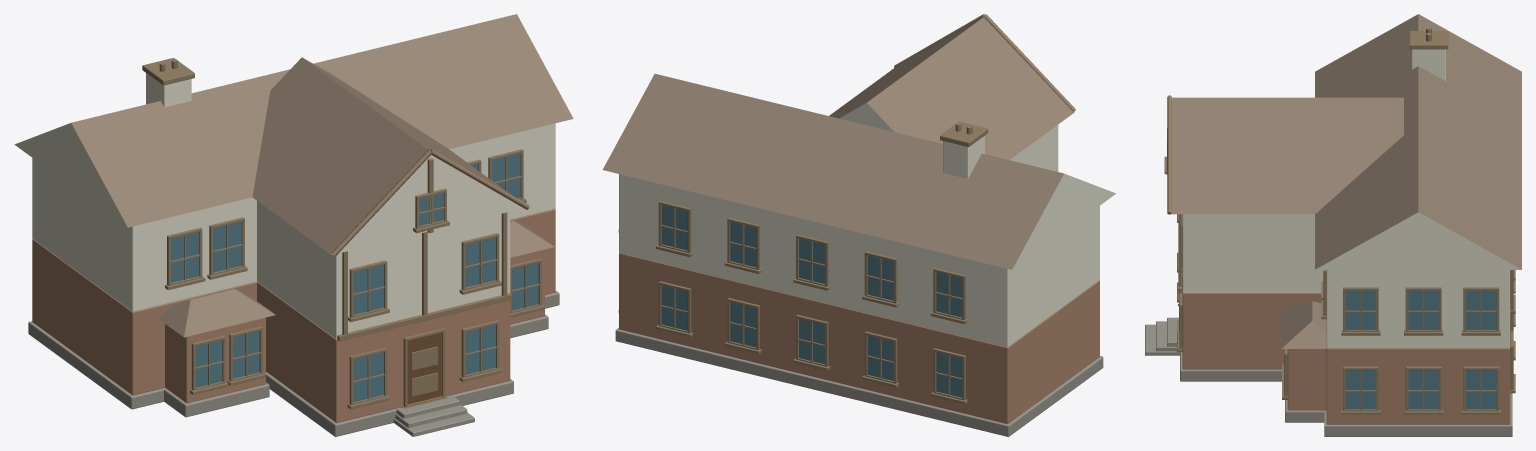
The model's file is large_arts_crafts.glb.
3 renders of one model, left to right at view 1: azimuth 30°, elevation 25°; view 2: azimuth 150°, elevation 25°; view 3: azimuth 270°, elevation 25°, orthographic. The views are drawn at different scales.
Visible parts, largest first — view 1: Broad hall intersecting roof solid gabled roof, Prominent forward gable solid gabled roof, Broad rear hall closed pale upper story, Forward T-plan cross wing closed pale upper story, Forward T-plan cross wing closed exterior walls, Broad rear hall closed exterior walls, Projecting ground bay closed exterior walls, Broad bay roof closed hipped roof, Forward T-plan cross wing closed foundation, Broad rear hall closed foundation, Projecting ground bay closed foundation, Arts and Crafts oak entry glazing (+23 smaller); view 2: Broad hall intersecting roof solid gabled roof, Broad rear hall closed pale upper story, Broad rear hall closed exterior walls, Prominent forward gable solid gabled roof, Broad rear hall closed foundation, Forward T-plan cross wing closed pale upper story, Broad brick chimney brick shaft, Rear hall casement glazing.006, Rear hall casement glazing.001, Rear hall casement glazing.004, Rear hall casement glazing, Rear hall casement glazing.003 (+7 smaller); view 3: Broad hall intersecting roof solid gabled roof, Prominent forward gable solid gabled roof, Forward T-plan cross wing closed pale upper story, Broad rear hall closed pale upper story, Broad rear hall closed exterior walls, Forward T-plan cross wing closed exterior walls, Broad rear hall closed foundation, Projecting ground bay closed exterior walls.001, Broad bay roof closed hipped roof.001, Forward T-plan cross wing closed foundation, Hall right-side casement glazing.003, Hall right-side casement glazing (+10 smaller).
Part boxes in pixels (x1,y1,x2,y2): Broad hall intersecting roof solid gabled roof: (14,14,573,227); Prominent forward gable solid gabled roof: (252,57,522,254); Broad rear hall closed pale upper story: (32,123,555,311); Forward T-plan cross wing closed pale upper story: (257,201,510,339); Forward T-plan cross wing closed exterior walls: (257,282,510,422); Broad rear hall closed exterior walls: (32,209,555,395); Projecting ground bay closed exterior walls: (165,317,265,403); Broad bay roof closed hipped roof: (159,289,275,337); Forward T-plan cross wing closed foundation: (266,372,513,436); Broad rear hall closed foundation: (28,291,559,409); Projecting ground bay closed foundation: (164,382,269,417); Arts and Crafts oak entry glazing: (407,332,442,404); Broad hall intersecting roof solid gabled roof: (602,73,1115,269); Broad rear hall closed pale upper story: (619,174,1099,347); Broad rear hall closed exterior walls: (619,253,1099,423); Prominent forward gable solid gabled roof: (829,17,1074,159); Broad rear hall closed foundation: (615,328,1103,436); Forward T-plan cross wing closed pale upper story: (1010,125,1058,171); Broad brick chimney brick shaft: (943,135,984,178); Rear hall casement glazing.006: (867,255,893,300); Rear hall casement glazing.001: (867,335,893,380); Rear hall casement glazing.004: (661,285,687,330); Rear hall casement glazing: (936,352,962,397); Rear hall casement glazing.003: (730,302,756,347); Broad hall intersecting roof solid gabled roof: (1315,14,1521,269); Prominent forward gable solid gabled roof: (1171,97,1403,214); Forward T-plan cross wing closed pale upper story: (1182,214,1323,293); Broad rear hall closed pale upper story: (1326,270,1510,348); Broad rear hall closed exterior walls: (1326,348,1510,424); Forward T-plan cross wing closed exterior walls: (1182,293,1321,369); Broad rear hall closed foundation: (1324,393,1512,436); Projecting ground bay closed exterior walls.001: (1287,349,1326,410); Broad bay roof closed hipped roof.001: (1281,301,1326,348); Forward T-plan cross wing closed foundation: (1180,352,1281,381); Hall right-side casement glazing.003: (1345,290,1376,329); Hall right-side casement glazing: (1345,370,1376,409).
Size of the model in its own units: 17.9 by 10.86 by 14.39.
